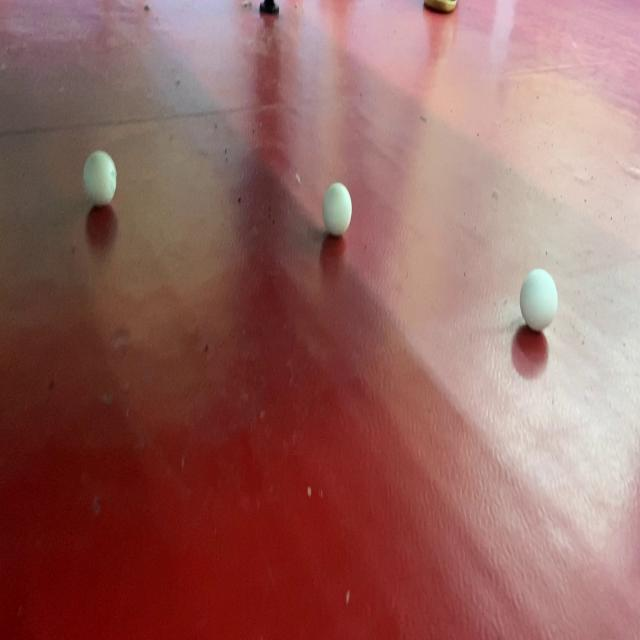ping-pong-ball: (518, 268, 559, 332), (82, 149, 118, 209), (322, 180, 354, 240)
